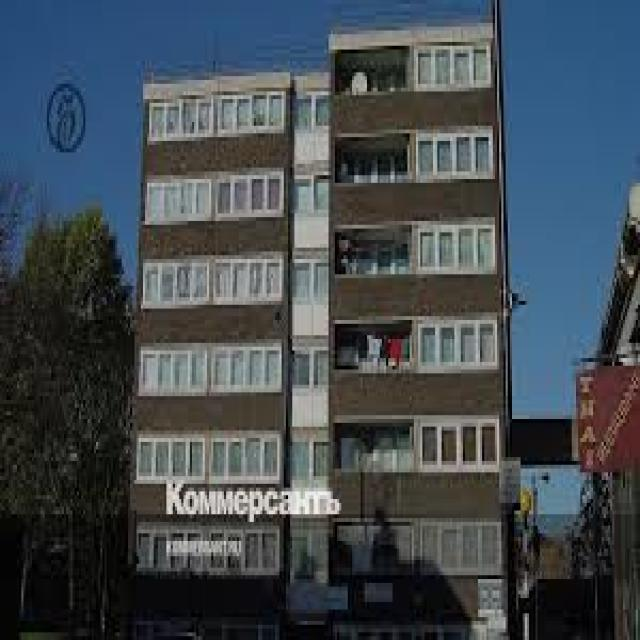window: (410, 213, 492, 274), (416, 316, 497, 374), (134, 339, 213, 396), (418, 412, 493, 468), (213, 339, 282, 396), (143, 175, 211, 232), (211, 171, 282, 225), (141, 255, 211, 309), (416, 133, 489, 183), (414, 46, 491, 91), (216, 255, 280, 305), (209, 434, 277, 480), (137, 434, 209, 476), (148, 99, 214, 141), (218, 95, 282, 134)
